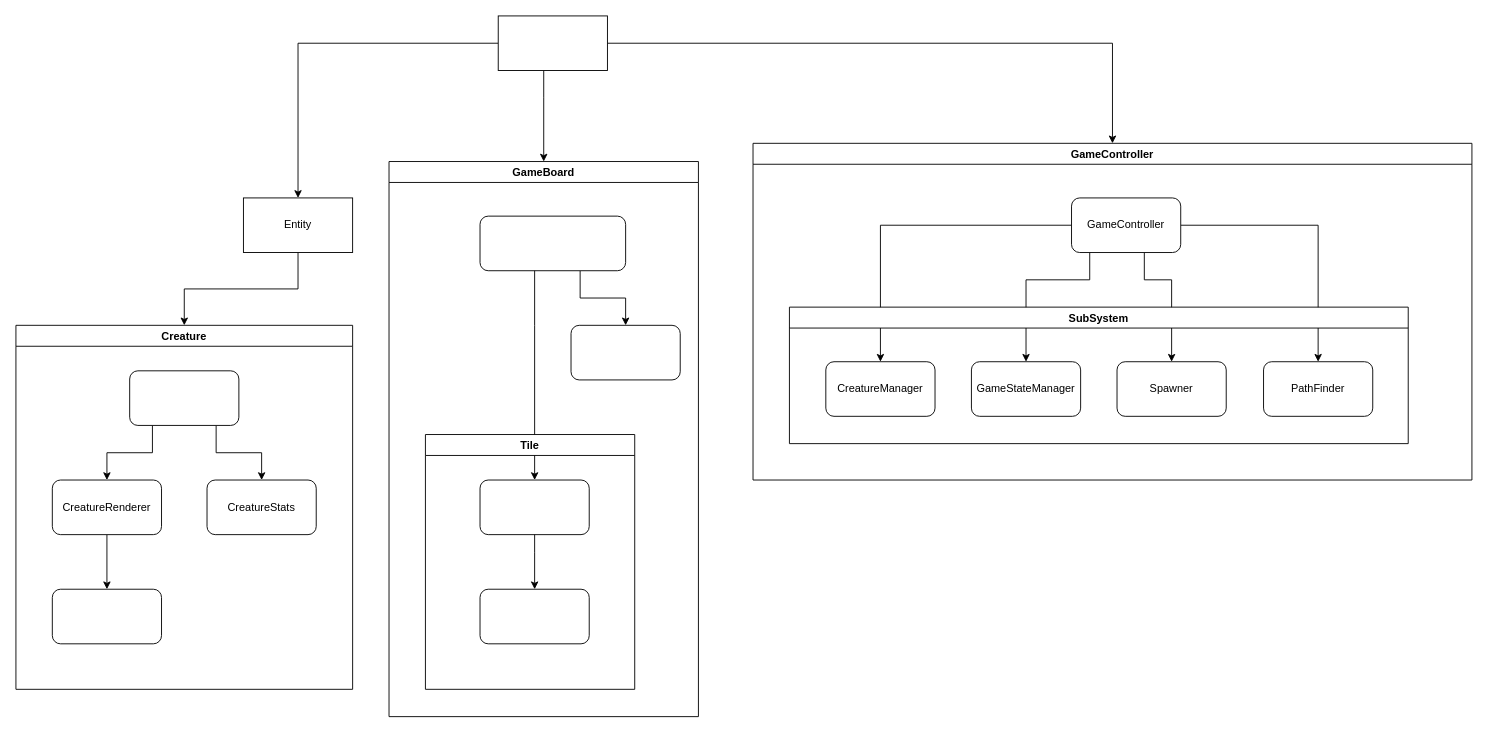
Some shapes in this 1488 by 733 pixel diagram are drawn without their labels. The centre of each missing label's shape, as x and y in pixels:
CreatureAnimator: (106,616)
CreatureController: (184,397)
GameBoardController: (552,243)
GameBoardStats: (625,352)
Script: (552,43)
TileController: (534,507)
TileRenderer: (534,616)
